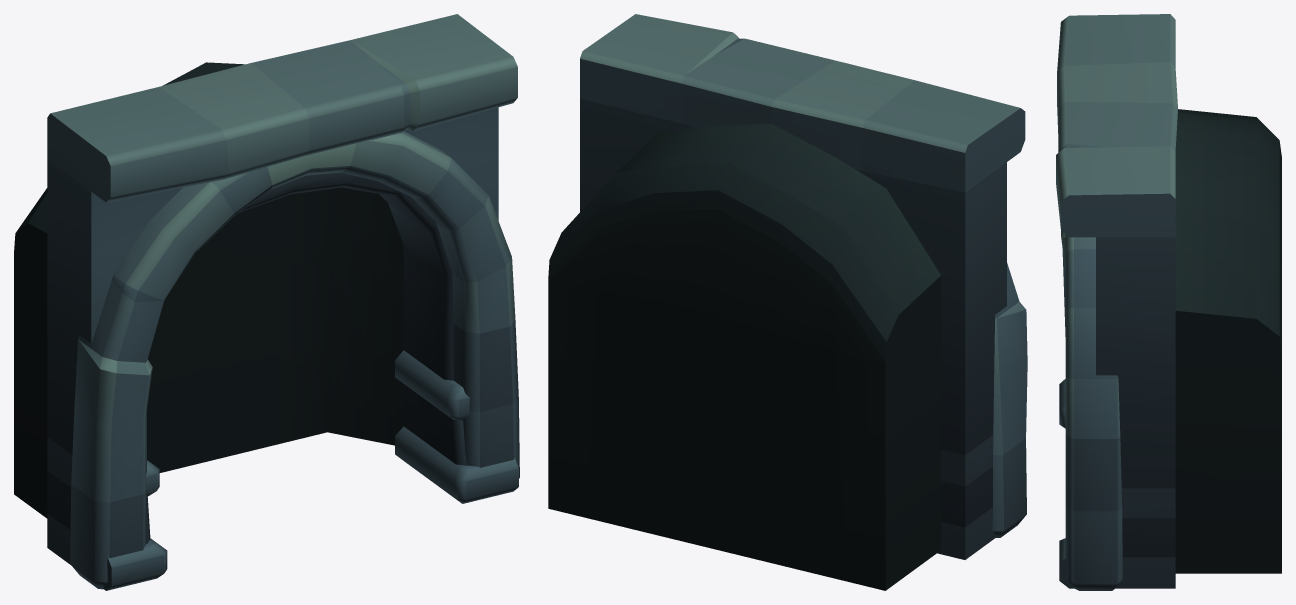
File: doorway_level_to_level.fbx
3 views of the same model, side by side, from view 1: azimuth 30°, elevation 25°; view 2: azimuth 150°, elevation 25°; view 3: azimuth 270°, elevation 25° (orthographic). The views are drawn at different scales.
Visible parts, largest first — view 1: doorway_level_to_level; view 2: doorway_level_to_level; view 3: doorway_level_to_level.
Boxes of the visible parts, x1,y1,x2,y2 form: doorway_level_to_level: (14, 14, 519, 590); doorway_level_to_level: (548, 14, 1027, 590); doorway_level_to_level: (1056, 14, 1281, 590).
Bounding box in the file's own units: 418 × 412 × 212.
